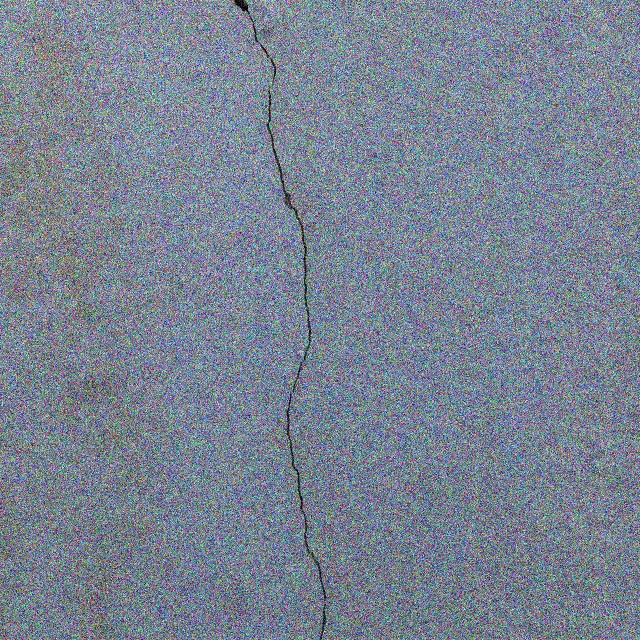SurfaceCrack: (184, 0, 376, 640)
